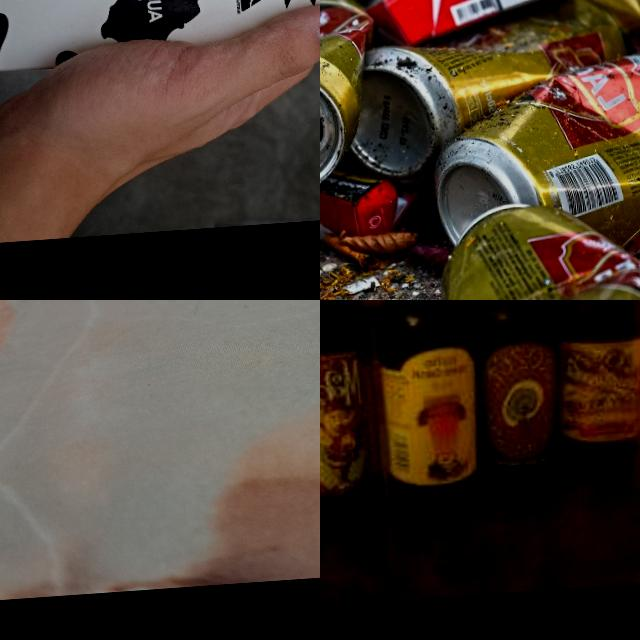caixinha: (0, 0, 320, 90)
garrafa de vidro: (361, 300, 488, 519), (454, 300, 573, 497), (540, 300, 640, 487), (320, 300, 384, 526)
lata: (329, 0, 637, 188), (420, 45, 640, 272), (432, 194, 640, 300), (320, 0, 388, 203)
